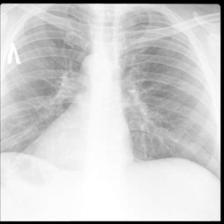tuberculosis: (1, 4, 221, 198)
